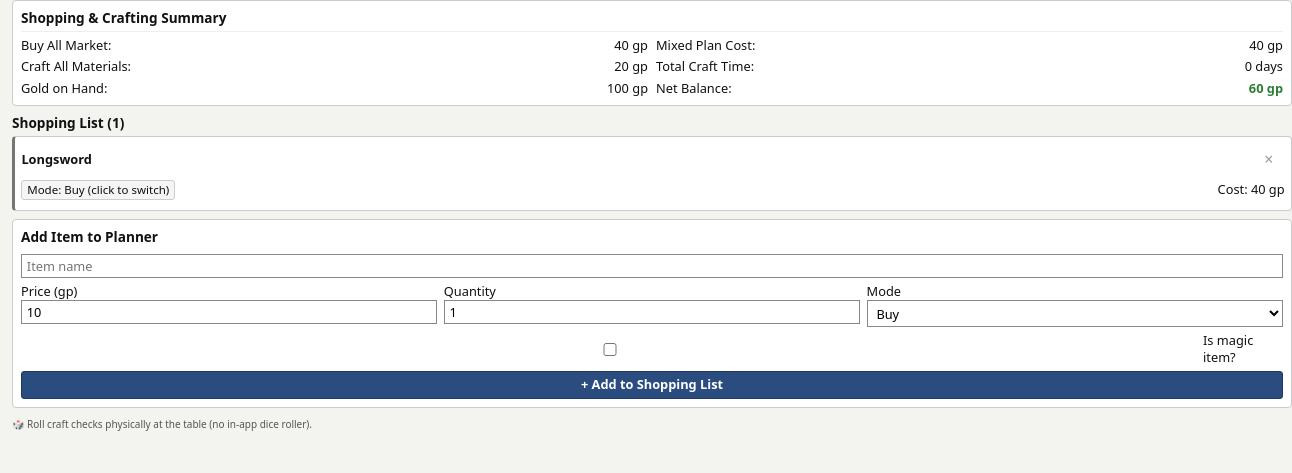
Test case: BudgetCalculator › toggles a line between buy and craft and re-costs it
The width and height of the screenshot is (1292, 473).
Expected: the text "Cost: 40 gp" is shown, [1218,181,1285,199]
Click the button "Mode: Buy (click to switch)".
click(98, 190)  # box [21,180,175,200]
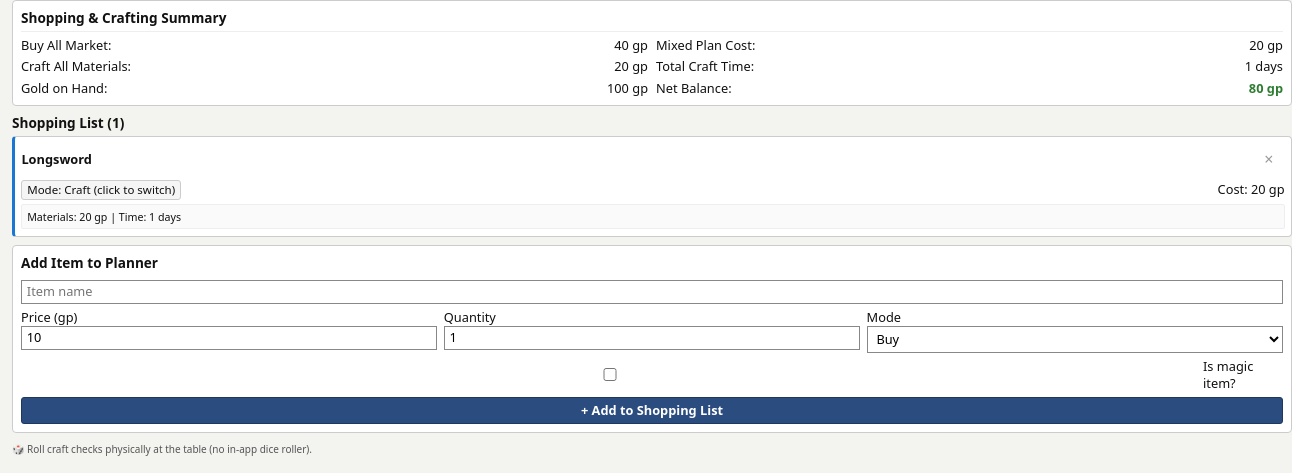
Result: the text "Cost: 20 gp" is shown at [1218,181,1285,199]
